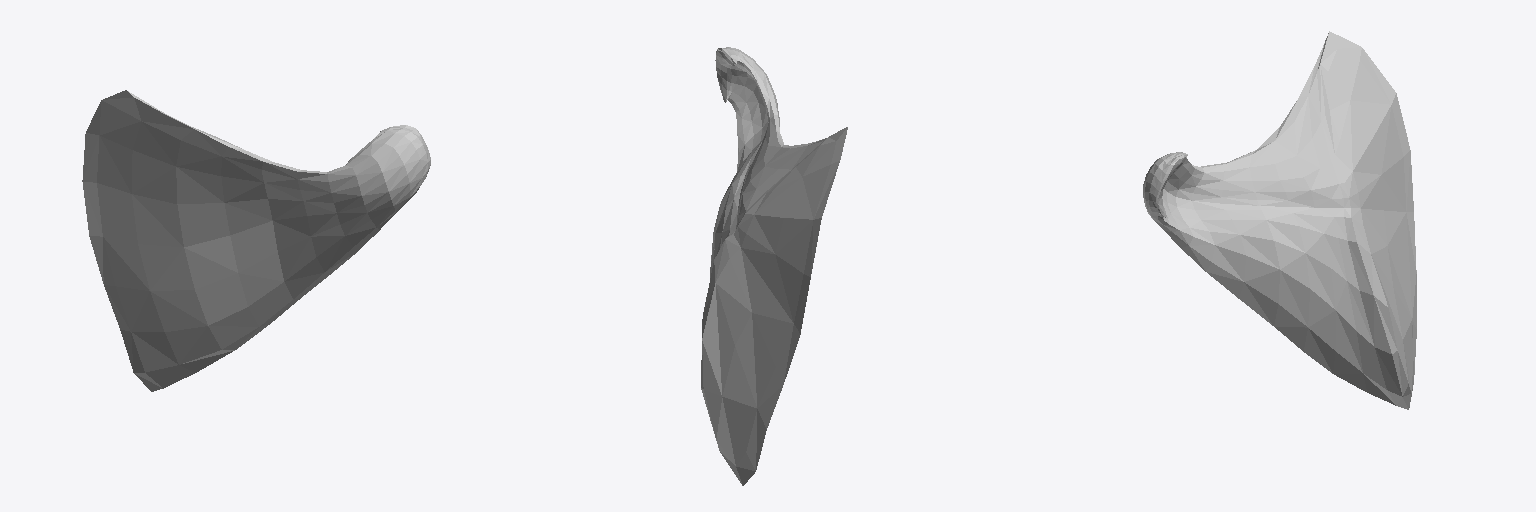
The model's file is subscapularis_left.obj.
3 renders of one model, left to right at view 1: azimuth 30°, elevation 25°; view 2: azimuth 150°, elevation 25°; view 3: azimuth 270°, elevation 25°, orthographic.
Parts seen in each view (by area): view 1: Subscapularis_Muscle_Left; view 2: Subscapularis_Muscle_Left; view 3: Subscapularis_Muscle_Left.
Boxes of the visible parts, x1=… form: Subscapularis_Muscle_Left: x1=82, y1=90, x2=430, y2=391; Subscapularis_Muscle_Left: x1=701, y1=47, x2=847, y2=485; Subscapularis_Muscle_Left: x1=1143, y1=31, x2=1416, y2=409.
Bounding box in the file's own units: 1.22 × 1.78 × 1.28.